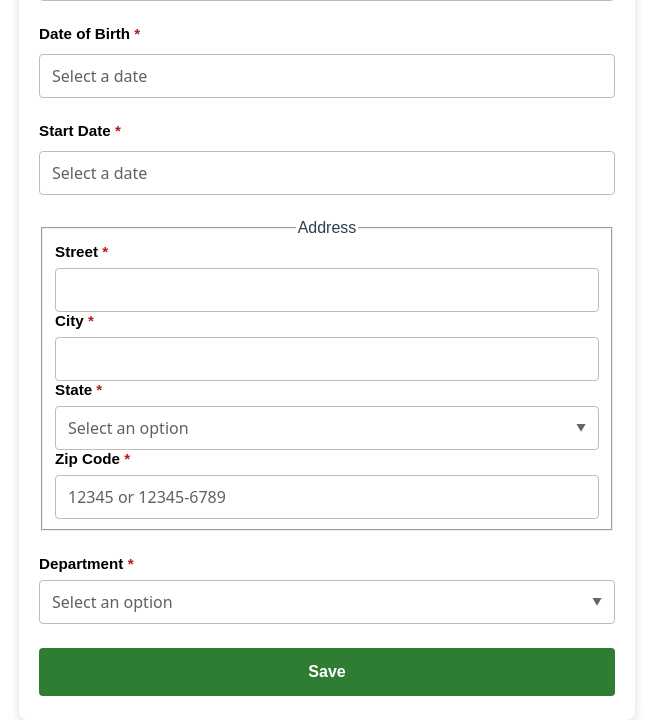
Test: EmployeeForm › Form Validation › shows error messages for empty required fields
(page scrolled)
Submit empty form
What coordinates should you click on to do the following:
click the button with test id "button-save"
I would click on:
 (327, 672)
Its box is [39,648,615,696].
(page scrolled)
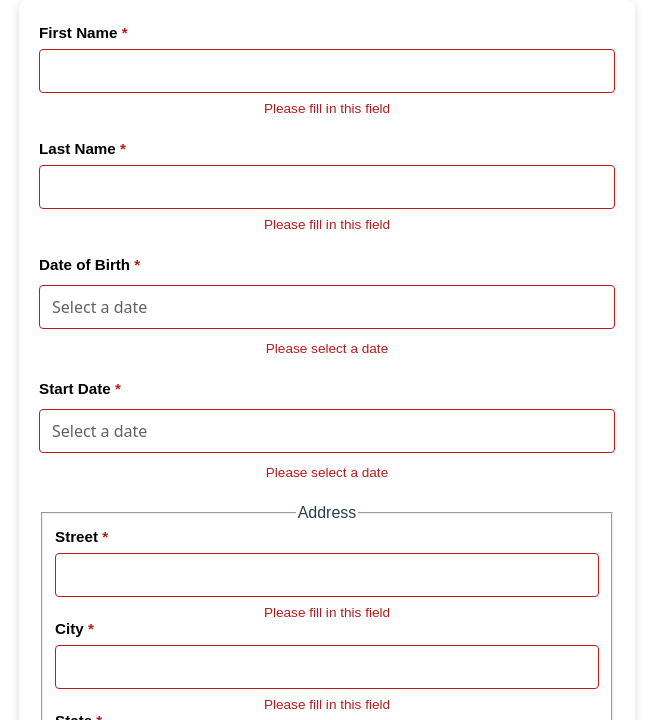
Now the text "Please fill in this field" below "First Name" is shown, box [264,101,390,116]
